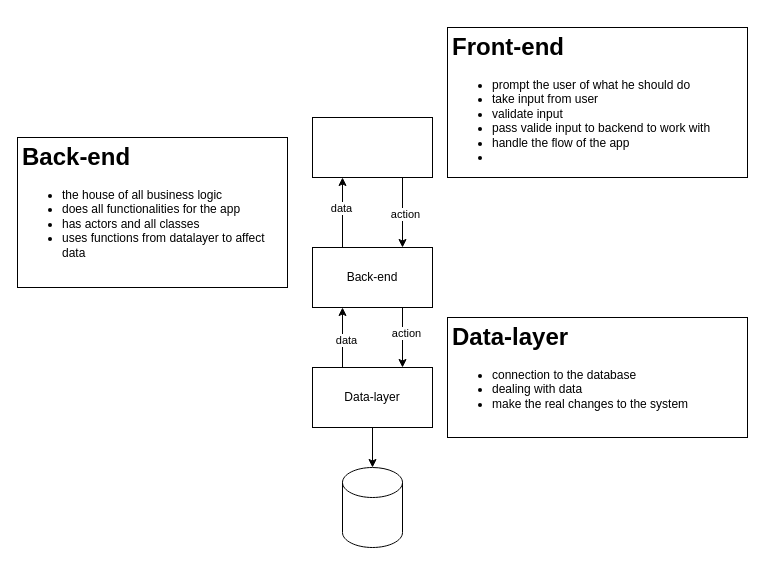
This 765x565 diagram has some shape labels left out. The shapes that lost their labels are listed below. From the top down, each one's centre as x and y in pixels, then its label:
At point 372,147: "Front-end".
At point 372,507: "database".
